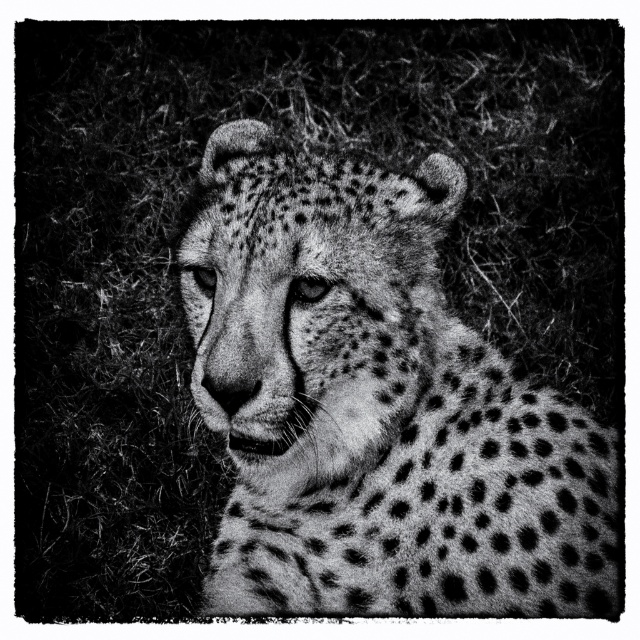Leopard: (175, 119, 626, 619)
